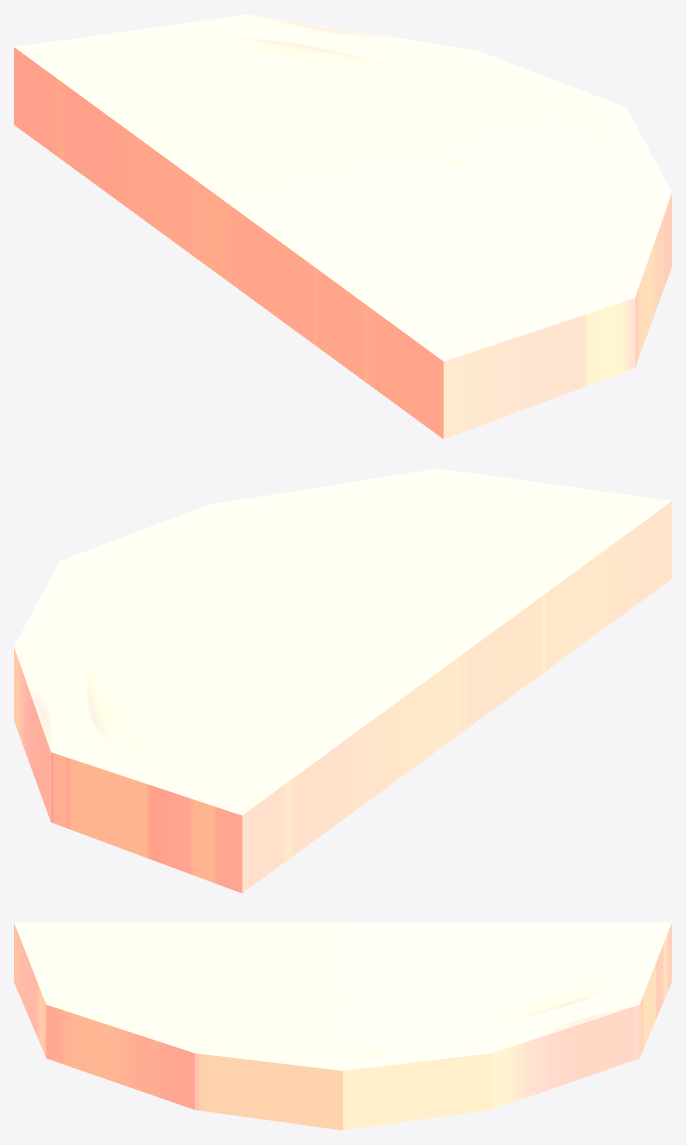
The model's file is buta.glb.
3 renders of one model, top to bottom at view 1: azimuth 30°, elevation 25°; view 2: azimuth 150°, elevation 25°; view 3: azimuth 270°, elevation 25°, orthographic. The views are drawn at different scales.
Visible parts, largest first — view 1: Cube; view 2: Cube; view 3: Cube.
Boxes of the visible parts, x1=… form: Cube: x1=14, y1=14, x2=671, y2=439; Cube: x1=14, y1=468, x2=671, y2=893; Cube: x1=14, y1=922, x2=671, y2=1130.
Bounding box in the file's own units: 1.07 × 0.2 × 2.
